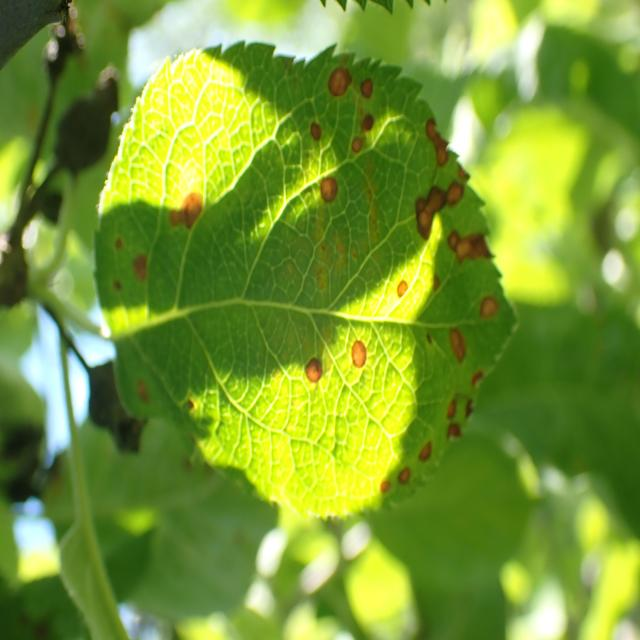Black Rot: (441, 213, 506, 284), (374, 435, 438, 501), (441, 369, 487, 454), (412, 177, 446, 256), (165, 176, 205, 242), (466, 285, 516, 331), (422, 103, 450, 178), (326, 50, 358, 113), (340, 336, 383, 378), (315, 158, 343, 216), (294, 108, 332, 148), (296, 352, 330, 396), (447, 151, 471, 213), (132, 364, 159, 419), (447, 314, 470, 377), (128, 249, 154, 292), (394, 272, 416, 318), (358, 74, 383, 104), (111, 270, 127, 316), (359, 104, 380, 137), (347, 133, 374, 157), (105, 228, 126, 257)
